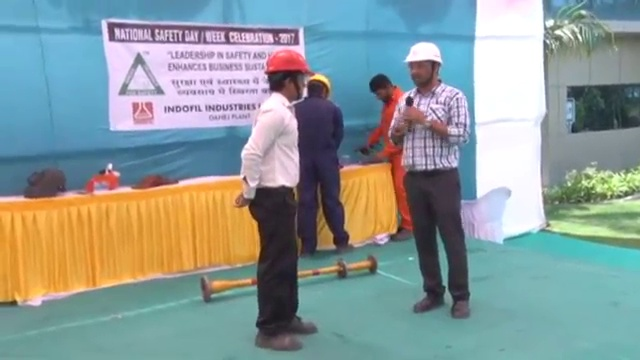helmet: (264, 48, 316, 77), (402, 41, 445, 65), (307, 69, 333, 94)
helmet_off: (367, 71, 397, 101)
helmet_on: (263, 47, 316, 104), (402, 40, 446, 94), (307, 68, 334, 103)
person: (234, 47, 319, 353), (387, 41, 473, 320), (295, 68, 356, 256), (366, 70, 415, 241)
